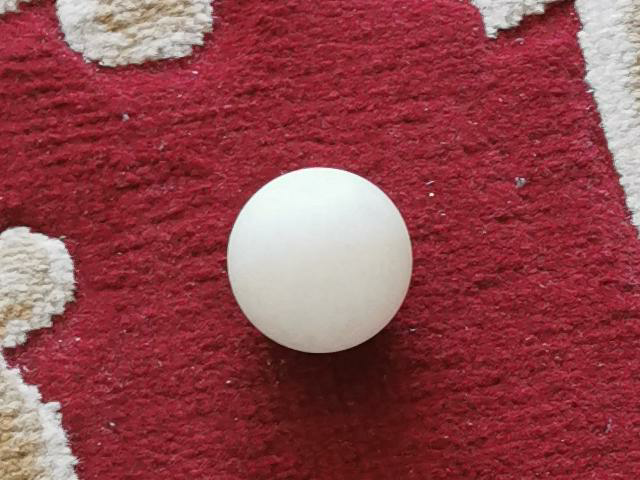ball: (226, 166, 414, 354)
